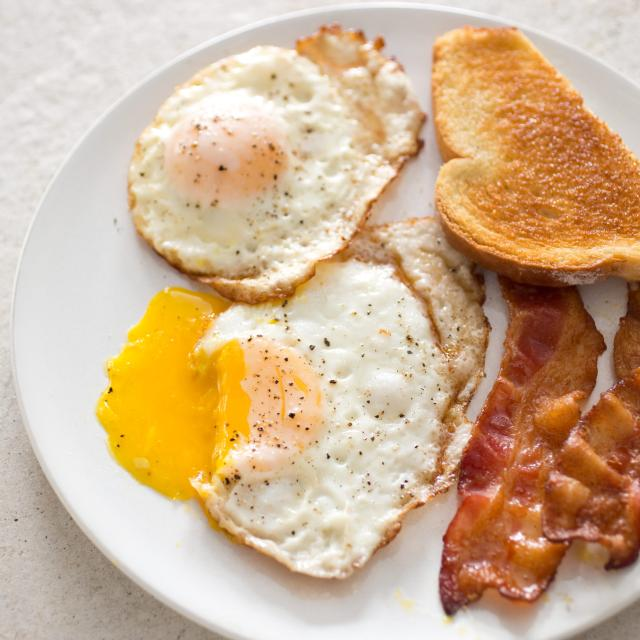Egg: (192, 242, 488, 578), (128, 25, 425, 302), (292, 208, 296, 211)
